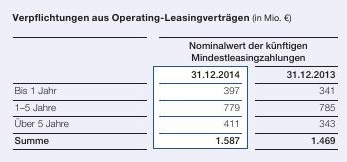table: (0, 0, 347, 162)
